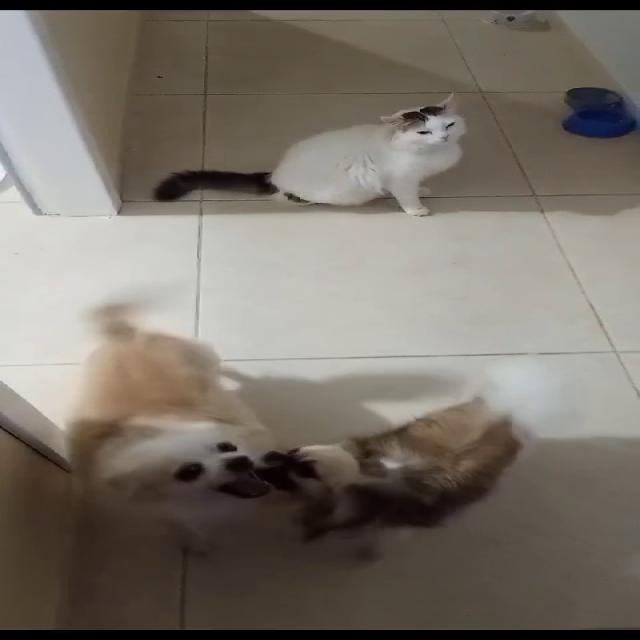Pedrita: (262, 335, 546, 593)
Simba: (174, 82, 512, 225)
Theo: (52, 285, 282, 522)
